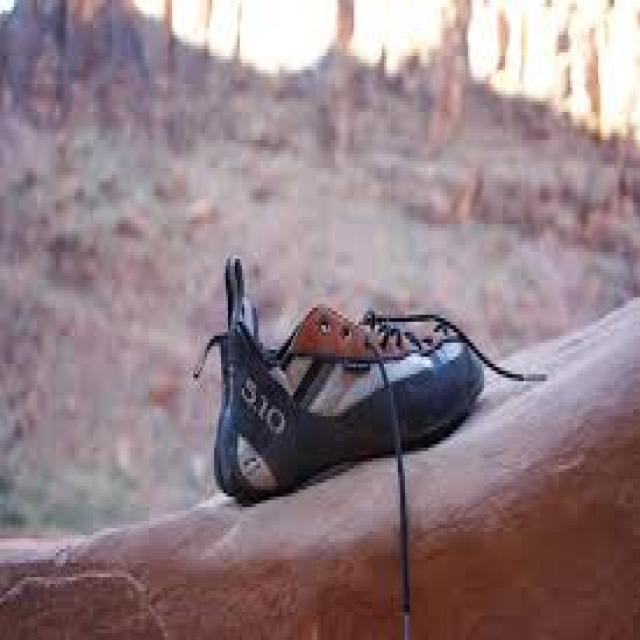climbing-shoes: (215, 246, 484, 507)
